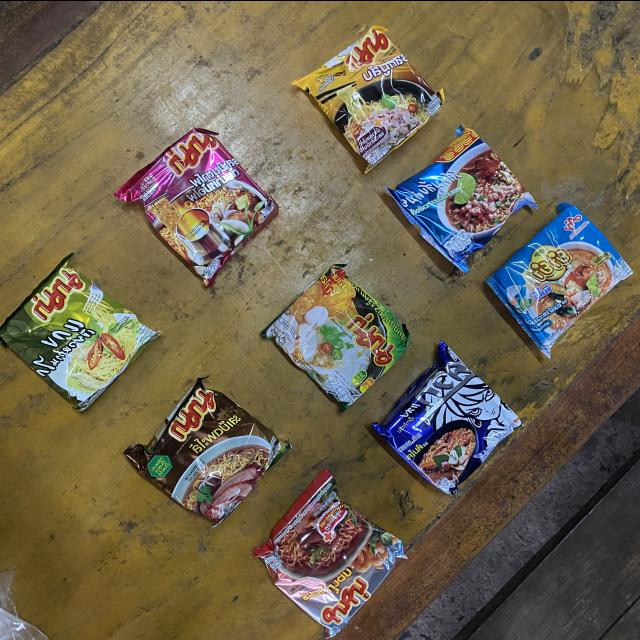plastik: (115, 128, 278, 285), (254, 469, 406, 636), (0, 254, 161, 410), (125, 378, 291, 526), (372, 341, 522, 494), (387, 124, 538, 272), (293, 24, 444, 170), (487, 203, 632, 355), (261, 263, 410, 409)
